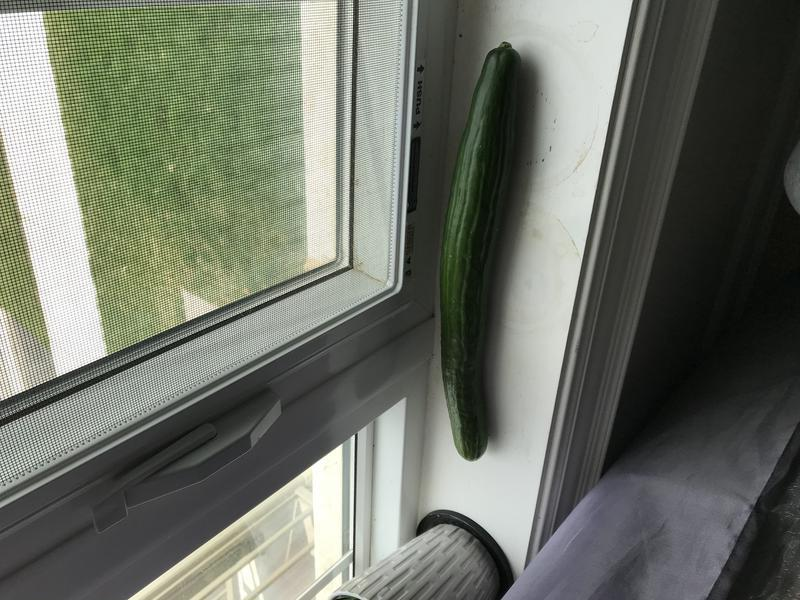cucumber: (426, 33, 528, 478)
